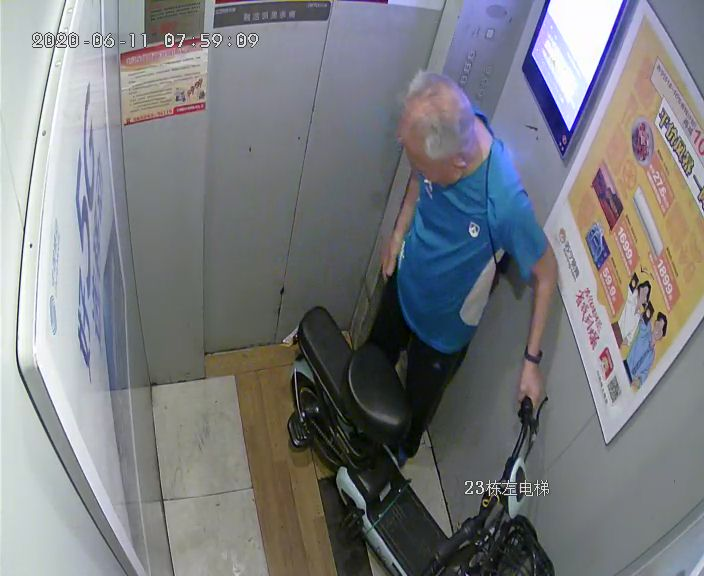Electric-bicycle: (287, 304, 551, 576)
